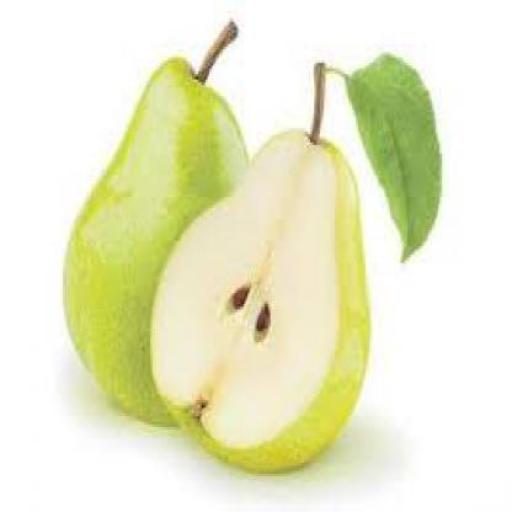biodegradable: (146, 63, 368, 465), (61, 19, 252, 424), (344, 49, 440, 260)
